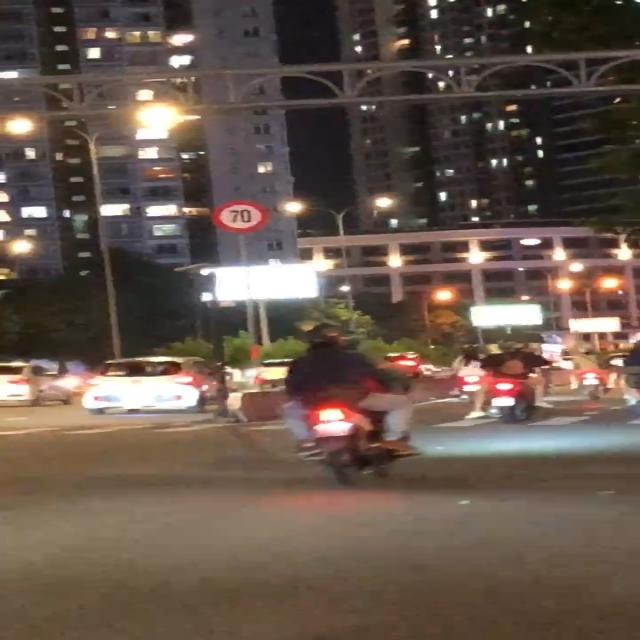Bien bao toc do toi da cho phep: (207, 199, 271, 235)
